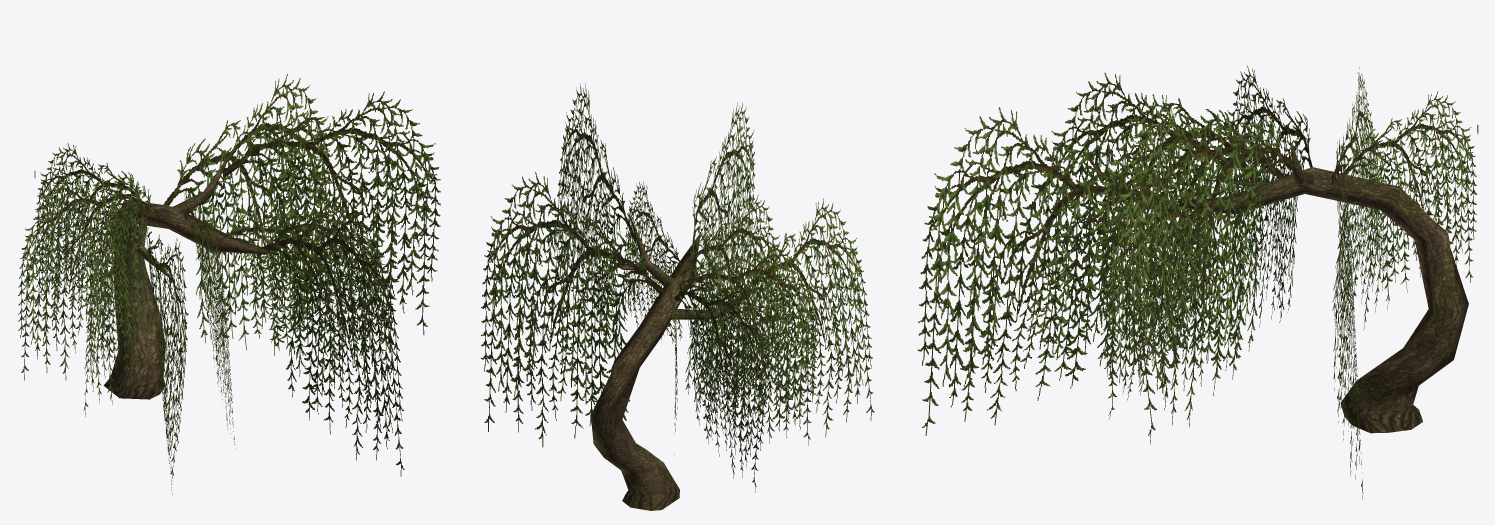
The model's file is liushu_63.FBX.
3 renders of one model, left to right at view 1: azimuth 30°, elevation 25°; view 2: azimuth 150°, elevation 25°; view 3: azimuth 270°, elevation 25°, orthographic. The views are drawn at different scales.
Parts seen in each view (by area): view 1: liushu_63; view 2: liushu_63; view 3: liushu_63.
Boxes of the visible parts, left/top/right/bottom form: liushu_63: left=18, top=74, right=440, bottom=493; liushu_63: left=481, top=83, right=874, bottom=510; liushu_63: left=917, top=65, right=1478, bottom=499.
Size of what is drawn, in the model's own units: 875 by 977 by 1061.
